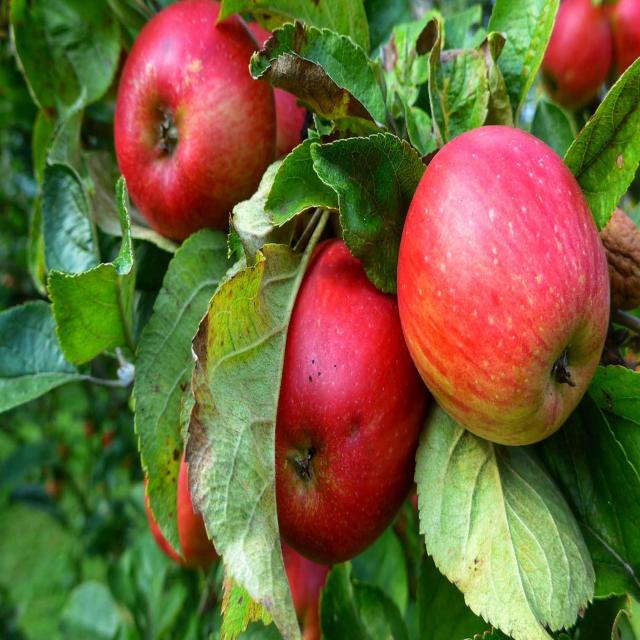Apple: (394, 116, 612, 448), (274, 236, 422, 565), (116, 2, 277, 250)
